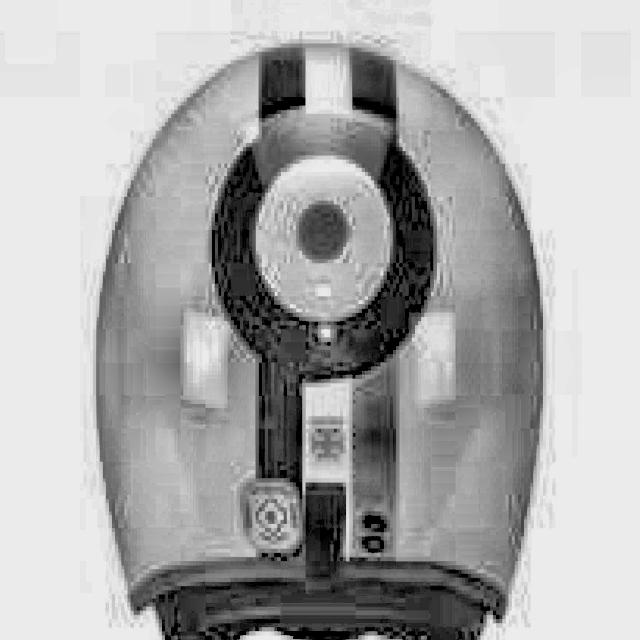Helmet: (89, 27, 547, 640)
